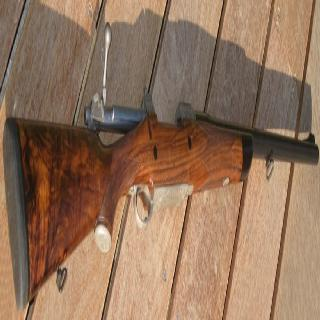gun: (3, 2, 319, 304)
